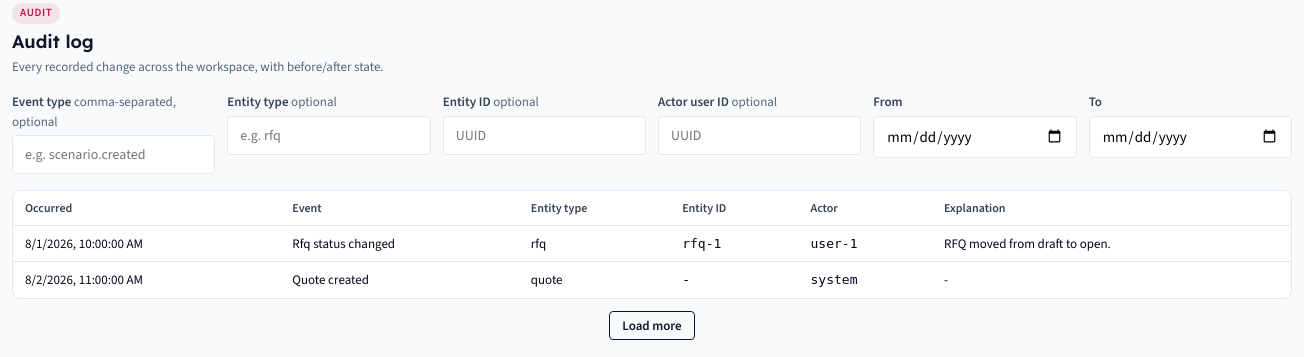
Test case: AuditPage › appends items on Load more and passes next_cursor as the cursor param
Expected: the text "Rfq status changed" is shown, [292,235,395,252]
Expected: the text "Scenario completed" is not shown
Step 1. Click the button "Load more" → (652, 325), box [609,310,695,340]
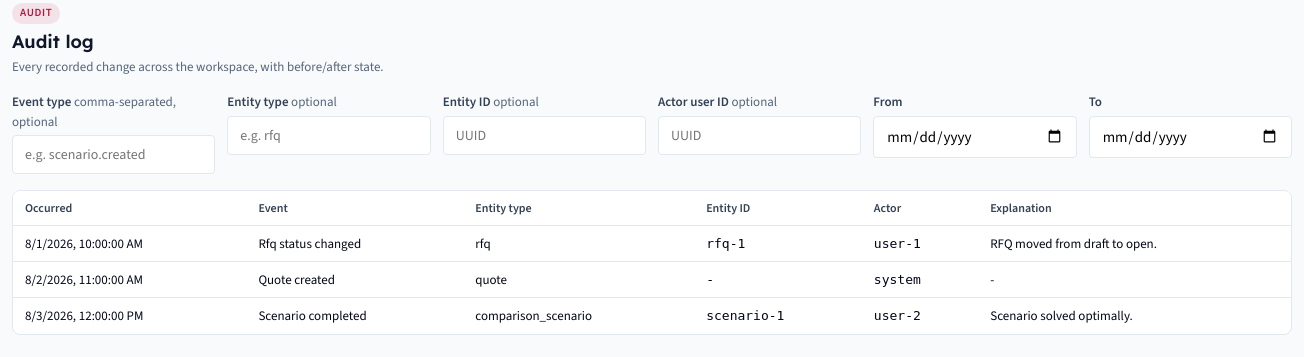
Expected: the text "Rfq status changed" is shown, [258,235,361,252]
Result: the text "Scenario completed" is shown at [258,307,367,324]
Result: the button "Load more" is gone
